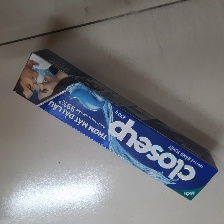CloseUp Tuyet: (12, 48, 219, 201)
